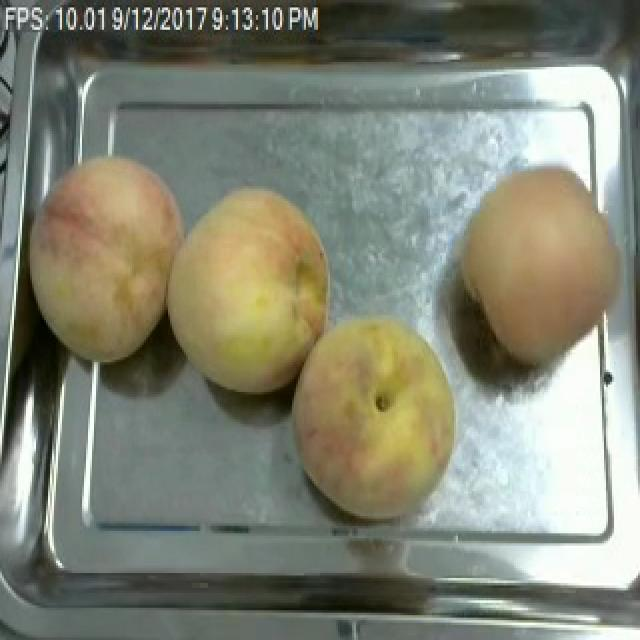Fruit: (158, 178, 344, 400), (284, 305, 470, 526), (452, 158, 640, 374), (16, 144, 194, 372)
